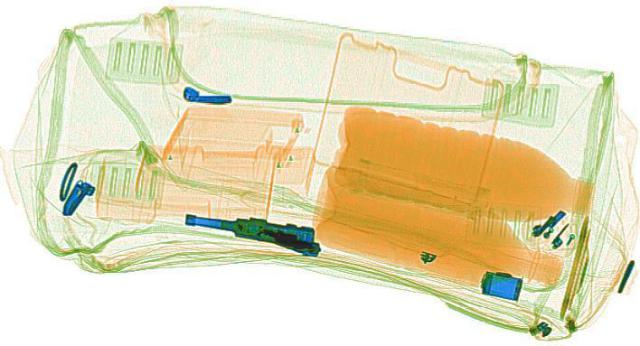Gun: (172, 199, 340, 255)
